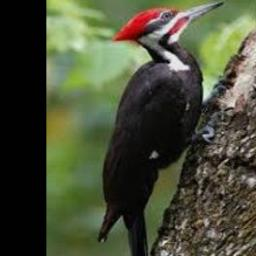Woodpecker: (99, 0, 226, 256)
